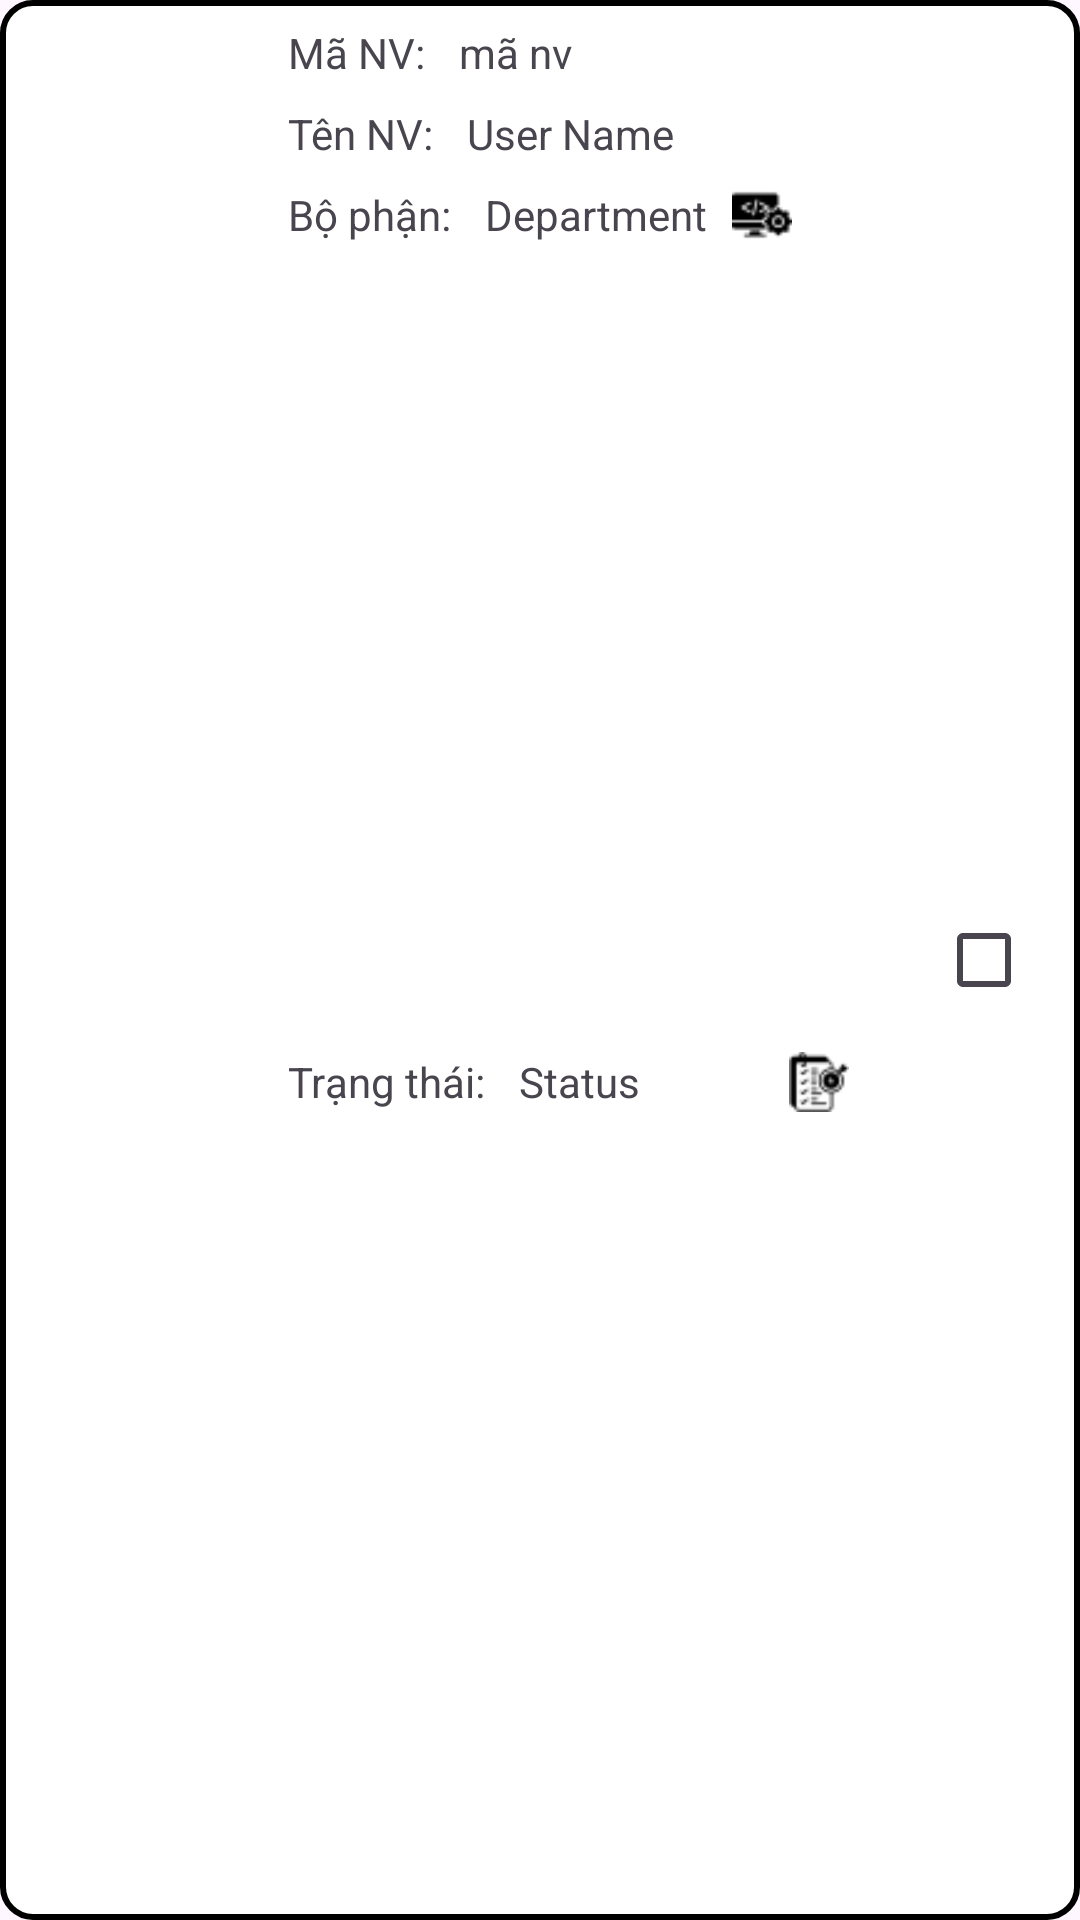

Where to tap for icons on this 1080w x 1920h app screen, as (x=x, y=y):
dev: (x=762, y=215)
intent: (x=819, y=1082)
